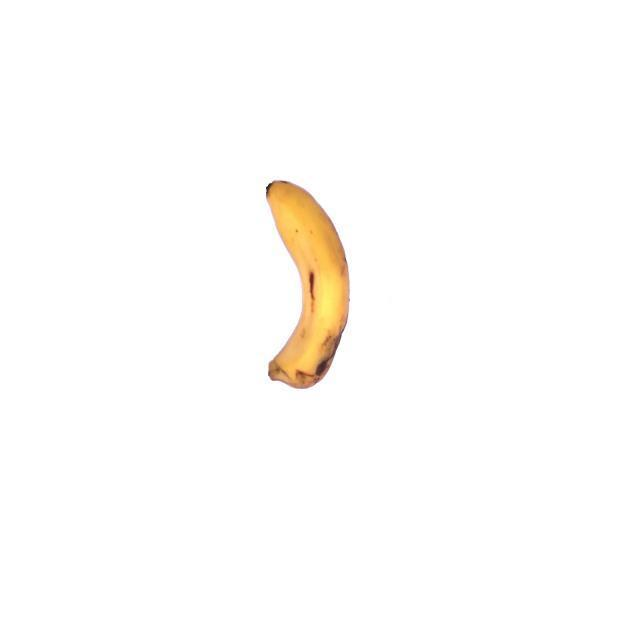Banana: (257, 176, 352, 391)
